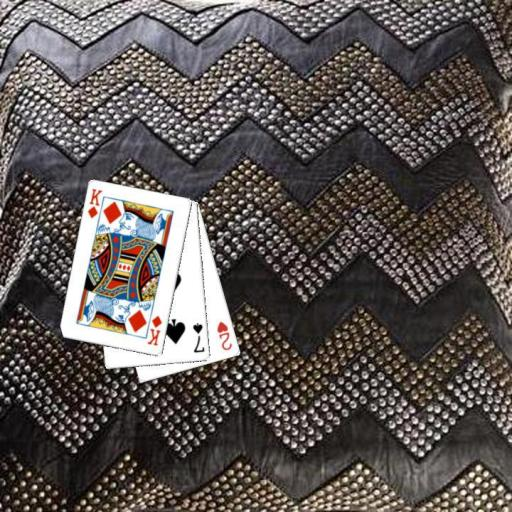2H: (214, 318, 234, 352)
7S: (190, 320, 206, 354)
KD: (145, 312, 164, 348), (85, 186, 104, 220)
